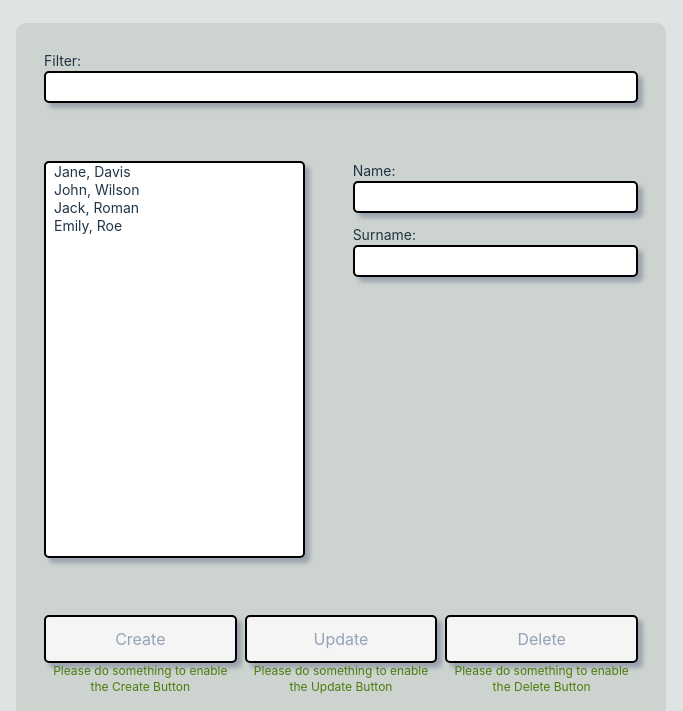
Scenario: Crud component › should update the user list, when a user is deleted
Step 1. Select "Jack, Roman" in the dropdown named "user list box" → (174, 359), box 44,160 -> 305,558
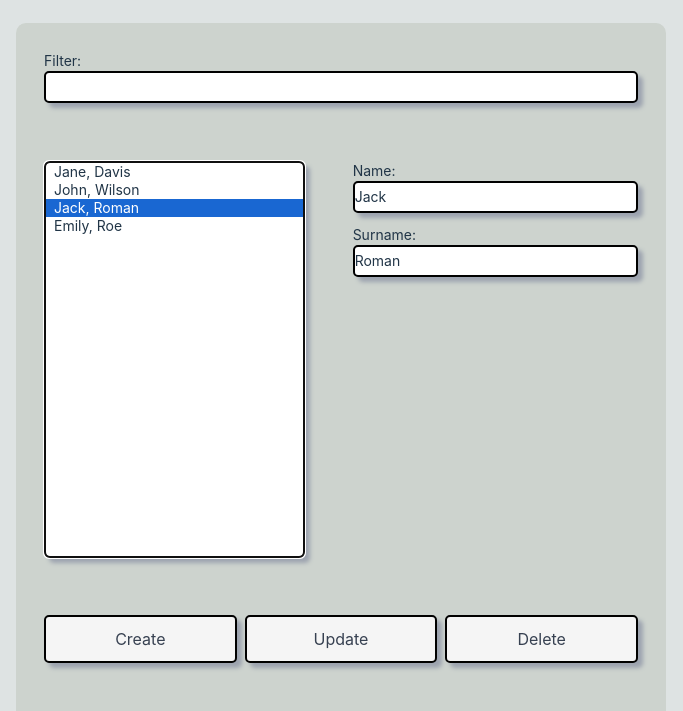
Step 2. Click the button "Delete" → click(542, 639), box 445,615 -> 638,663
(page scrolled)
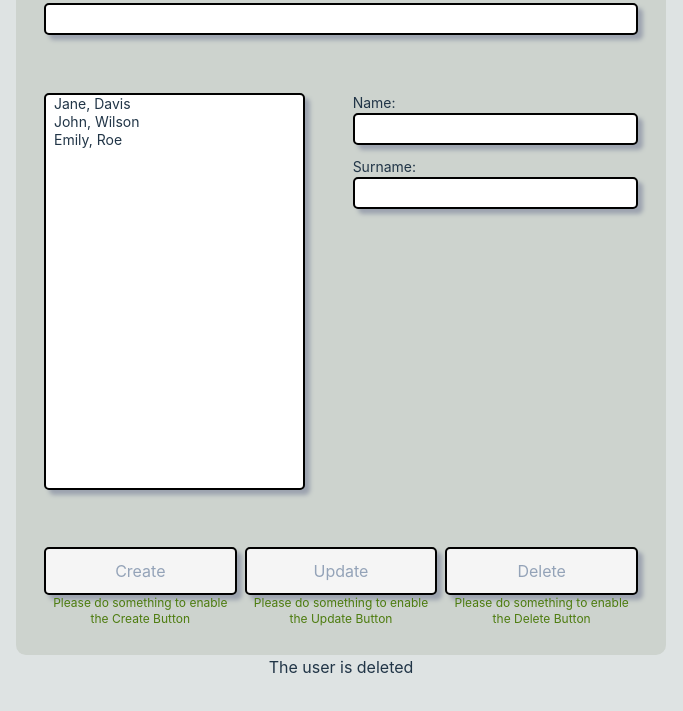
Expected: the text "The user is deleted" is shown, 269,657 -> 413,677
